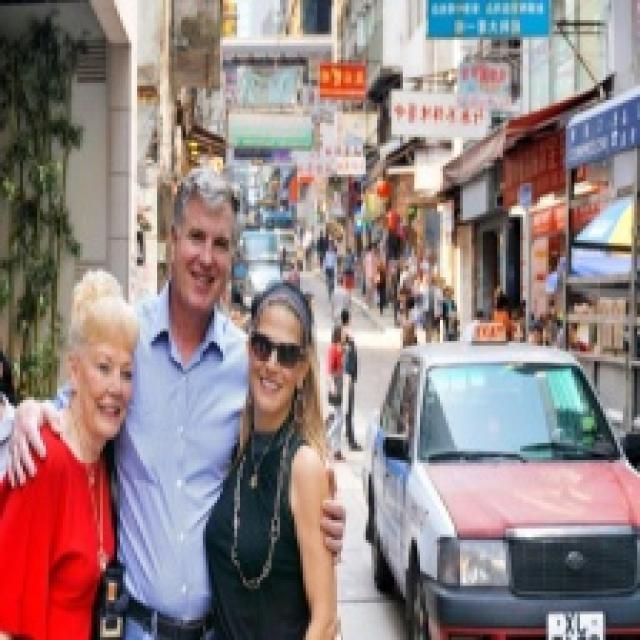car: (362, 335, 638, 610)
